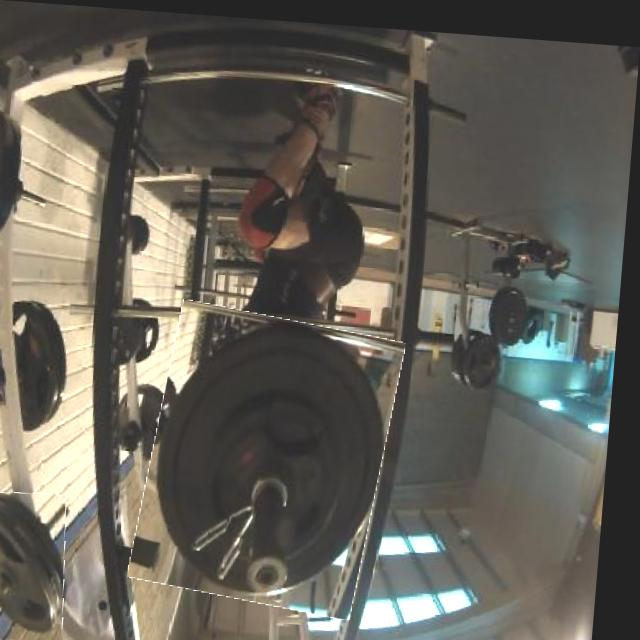barbell: (144, 301, 405, 610), (1, 489, 81, 640)
